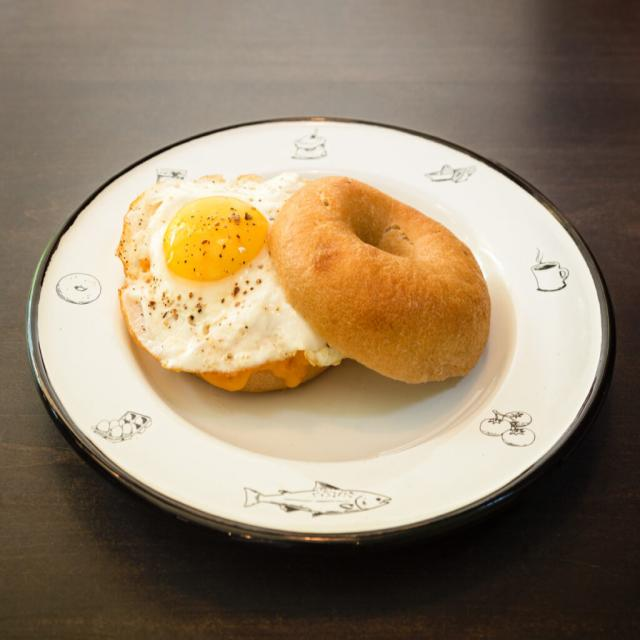Bagel: (268, 177, 491, 383)
Egg: (116, 173, 341, 391)
